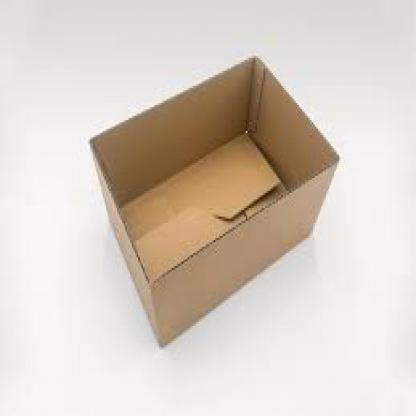CARDBOARD: (85, 52, 336, 343)
